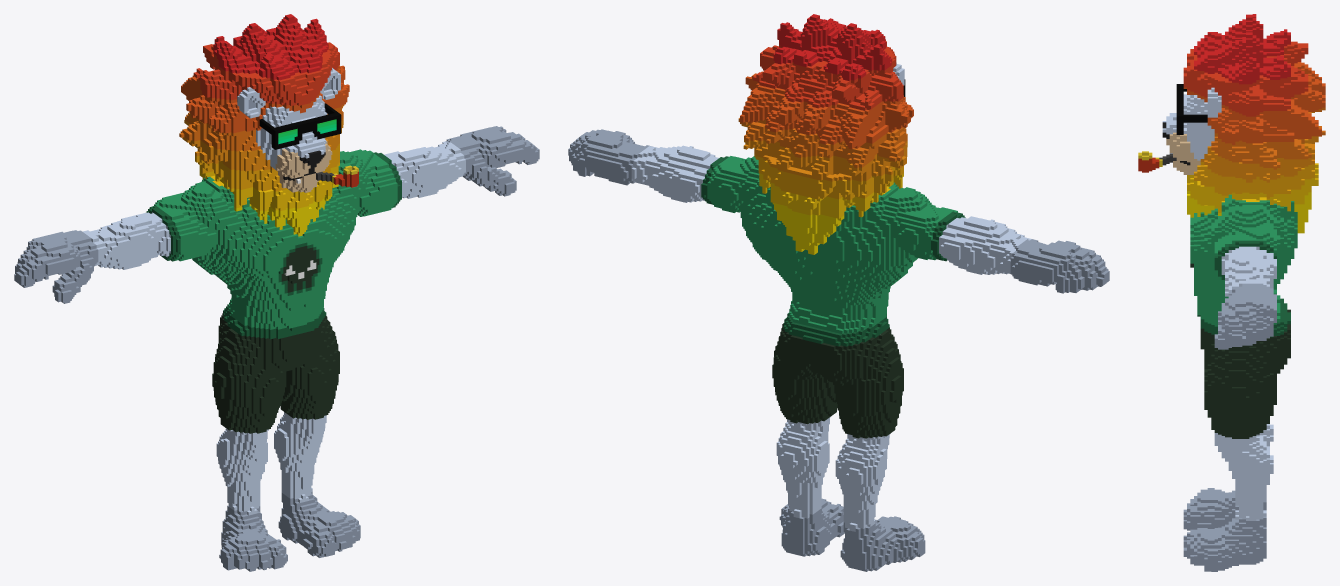
The model's file is 912-DnnAwizB.glb.
3 views of the same model, side by side, from view 1: azimuth 30°, elevation 25°; view 2: azimuth 150°, elevation 25°; view 3: azimuth 270°, elevation 25° (orthographic). The views are drawn at different scales.
Visible parts, largest first — view 1: pipe; view 2: pipe; view 3: pipe.
Boxes of the visible parts, <box> form: pipe: <box>14,14,539,571</box>; pipe: <box>568,14,1109,571</box>; pipe: <box>1138,14,1325,571</box>.
Size of the model in its own units: 17.2 by 16.5 by 5.4.
Materials: 5 (5 with a texture image).
